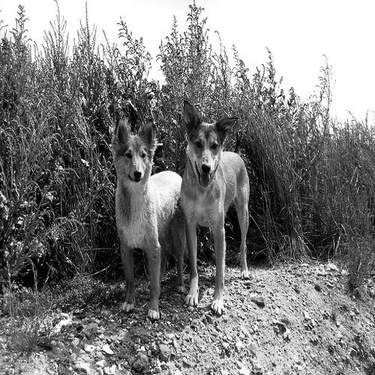dog: (98, 113, 189, 321), (172, 91, 253, 317)
